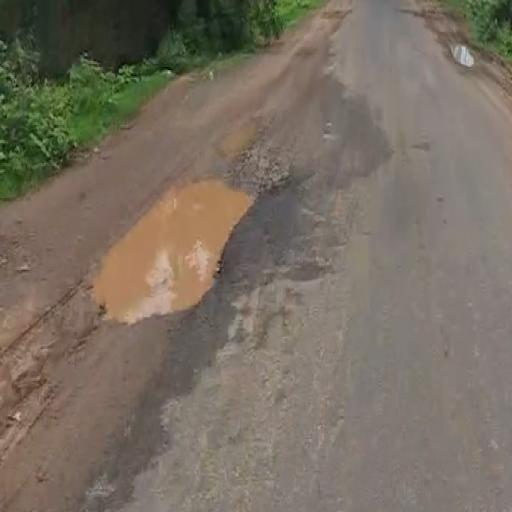edge_damage: (220, 95, 315, 230)
